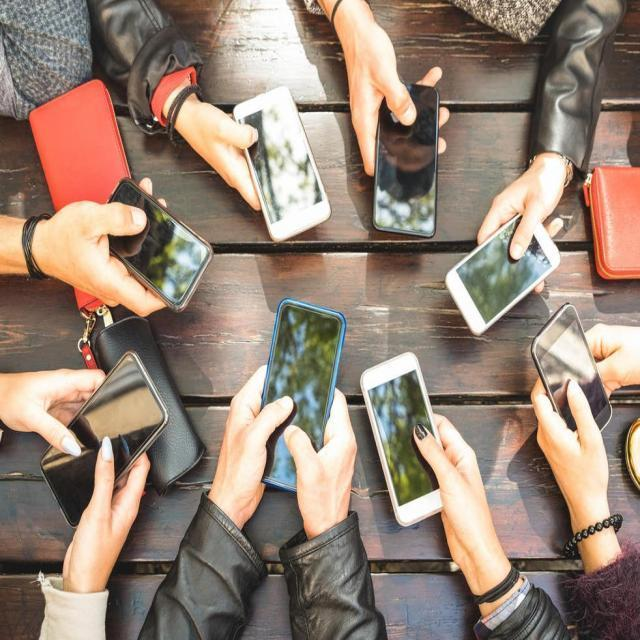Phone: (38, 348, 170, 529), (256, 294, 349, 495), (229, 87, 335, 249), (444, 208, 561, 342), (359, 349, 445, 529), (101, 177, 214, 313), (369, 79, 444, 245), (527, 300, 615, 436)
